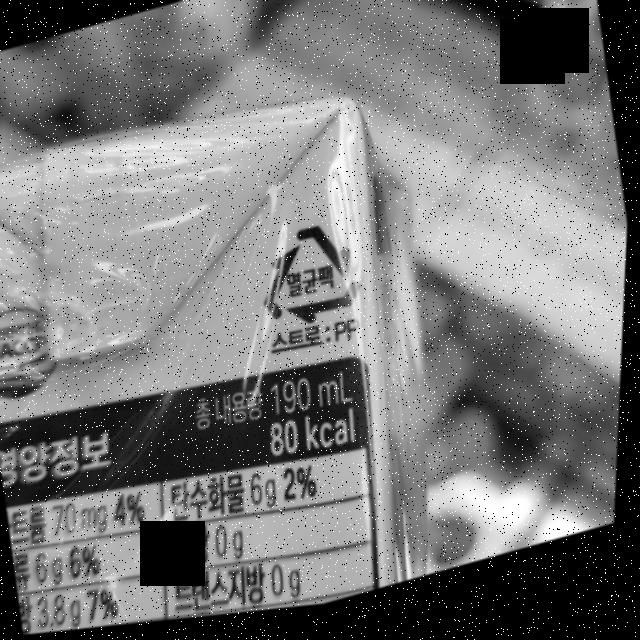SterilizedPack: (253, 215, 371, 345)
